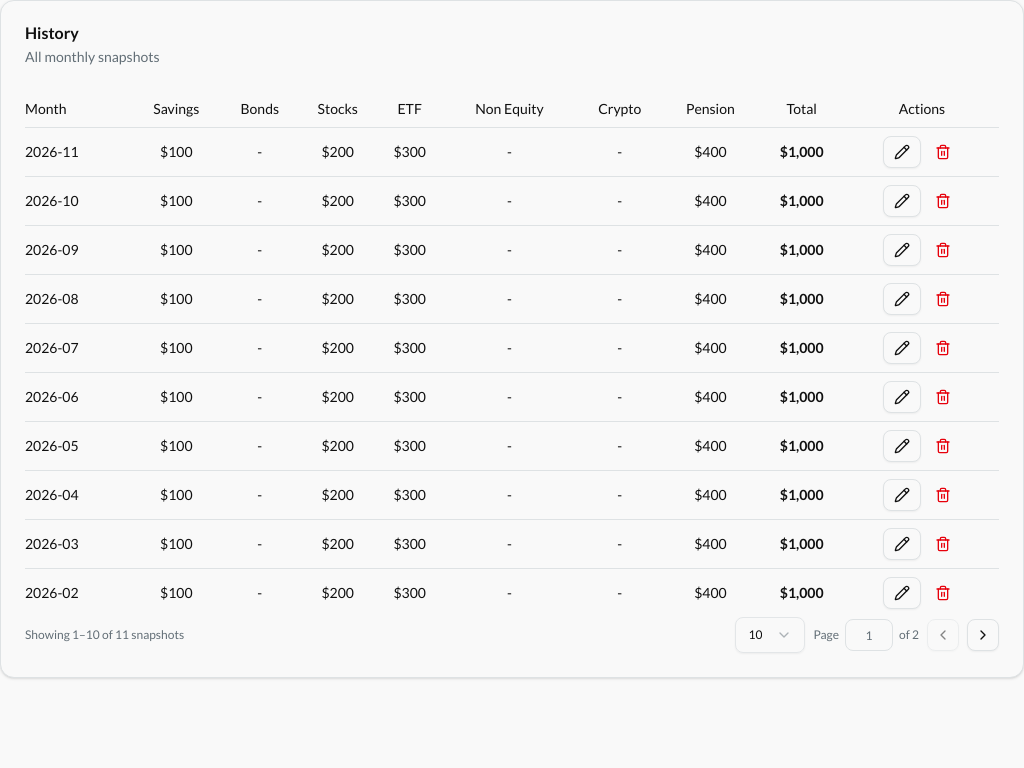
Test: shows latest snapshots first and paginates without altering caller order
Click the button named "Next page": point(983, 635) 967,619 -> 999,651
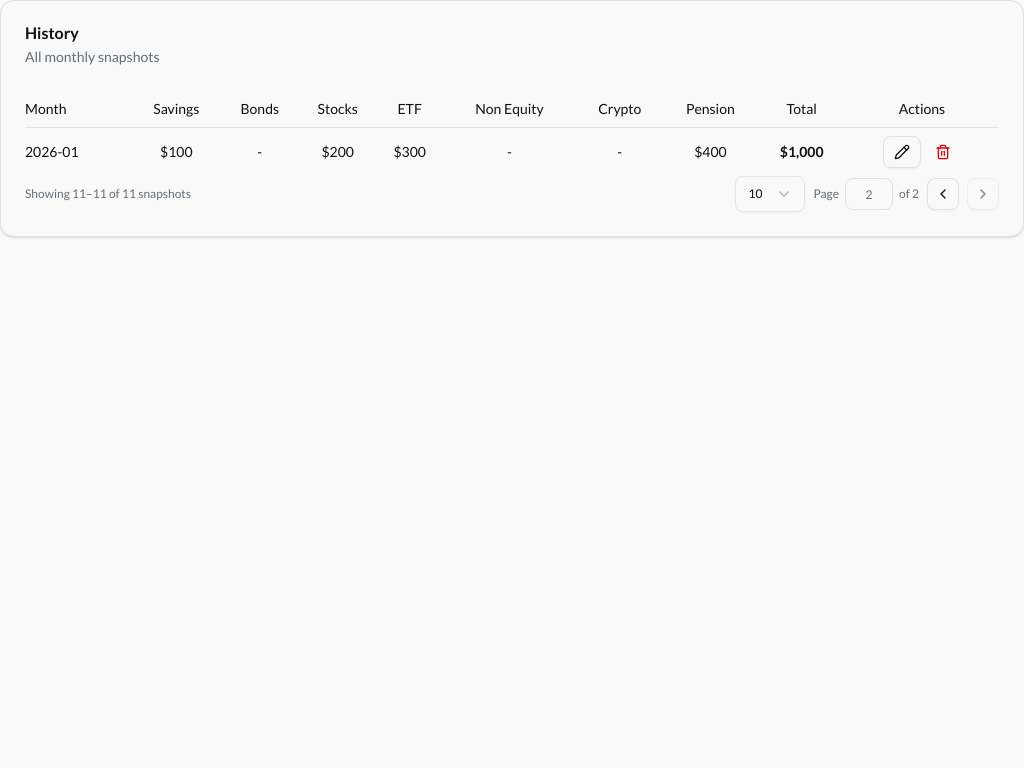
Expected: the text "2026-01" is shown 2 times
Expected: the text "2026-11" is gone
